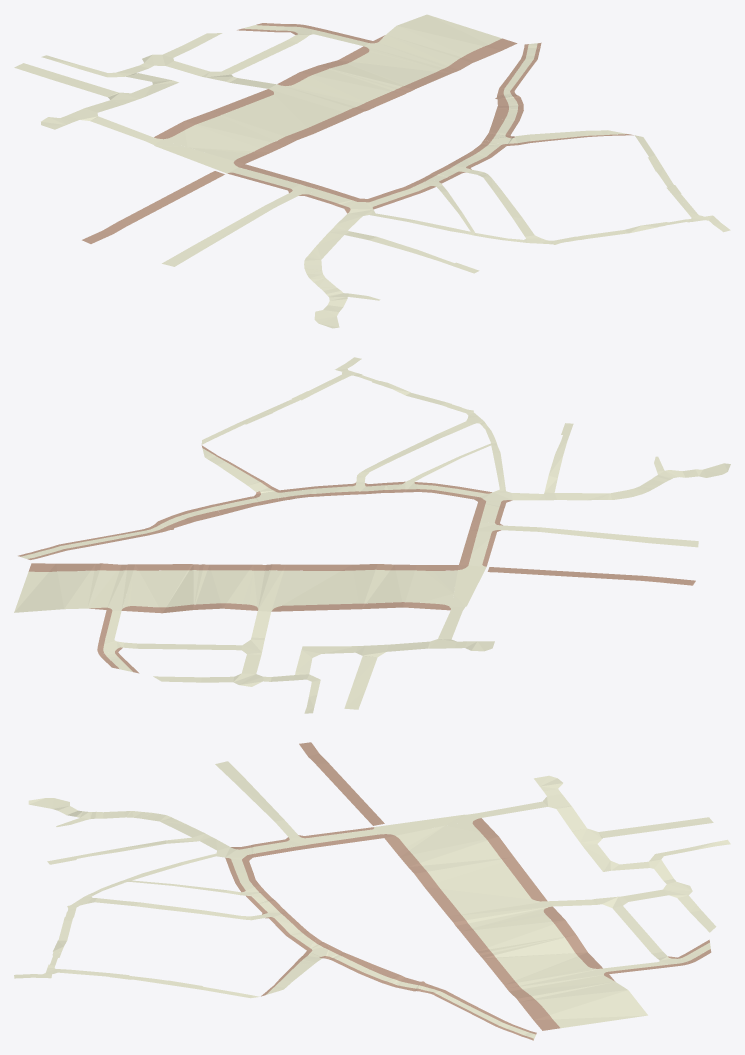
The model's file is data80.glb.
3 views of the same model, one above another, from view 1: azimuth 30°, elevation 25°; view 2: azimuth 150°, elevation 25°; view 3: azimuth 270°, elevation 25° (orthographic). The views are drawn at different scales.
Size of the model in its own units: 301 by 16.52 by 334.
